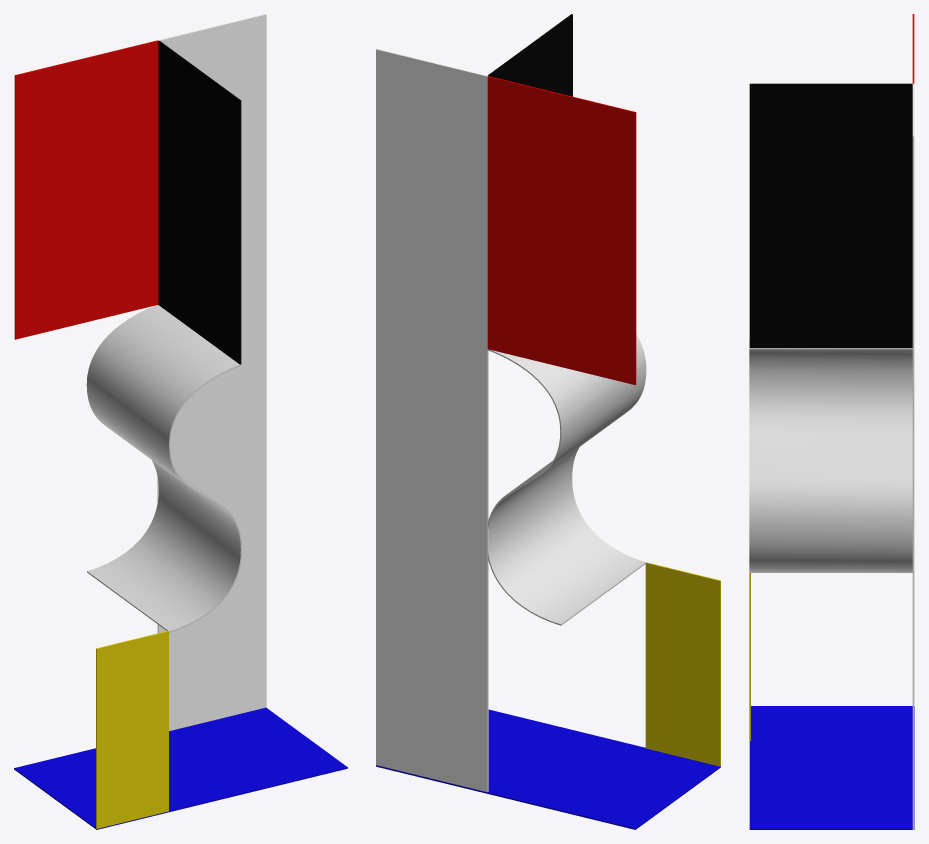
The model's file is preview.glb.
3 renders of one model, left to right at view 1: azimuth 30°, elevation 25°; view 2: azimuth 150°, elevation 25°; view 3: azimuth 270°, elevation 25°, orthographic. The views are drawn at different scales.
Parts seen in each view (by area): view 1: no_Mat.1_0 (×3); view 2: no_Mat.1_0 (×3); view 3: no_Mat.1_0 (×3).
Boxes of the visible parts, <box> form: no_Mat.1_0 (×3): <box>14,14,347,829</box>; no_Mat.1_0 (×3): <box>376,14,720,829</box>; no_Mat.1_0 (×3): <box>749,14,914,829</box>.
Size of the model in its own units: 195 by 515 by 111.
Materials: 3 (3 with a texture image).
